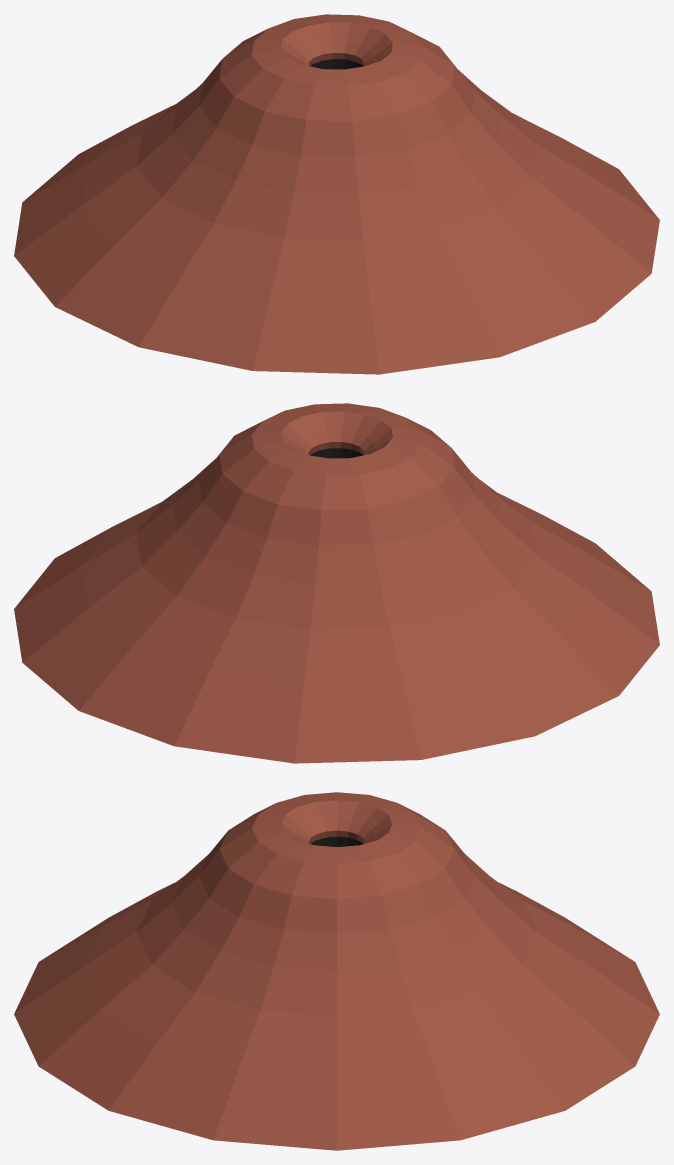
The model's file is Ant Hill.fbx.
The picture shows the model from 3 angles, top to bottom: view 1: azimuth 30°, elevation 25°; view 2: azimuth 150°, elevation 25°; view 3: azimuth 270°, elevation 25°; orthographic projection.
Parts seen in each view (by area): view 1: Ant Hill; view 2: Ant Hill; view 3: Ant Hill.
Boxes of the visible parts, x1=… form: Ant Hill: x1=14, y1=14, x2=659, y2=374; Ant Hill: x1=14, y1=403, x2=659, y2=763; Ant Hill: x1=14, y1=792, x2=659, y2=1150.
Size of the model in its own units: 1279 by 416 by 1279.
